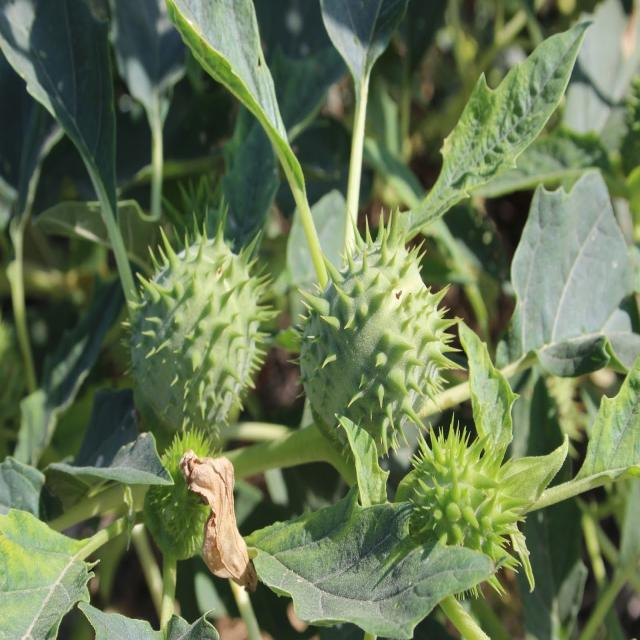Poisonous-Datura_Stramonium: (294, 206, 461, 432), (125, 221, 272, 467), (405, 420, 543, 640)
